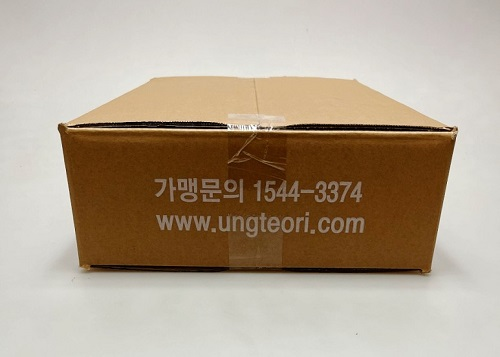undamaged: (59, 77, 459, 278)
